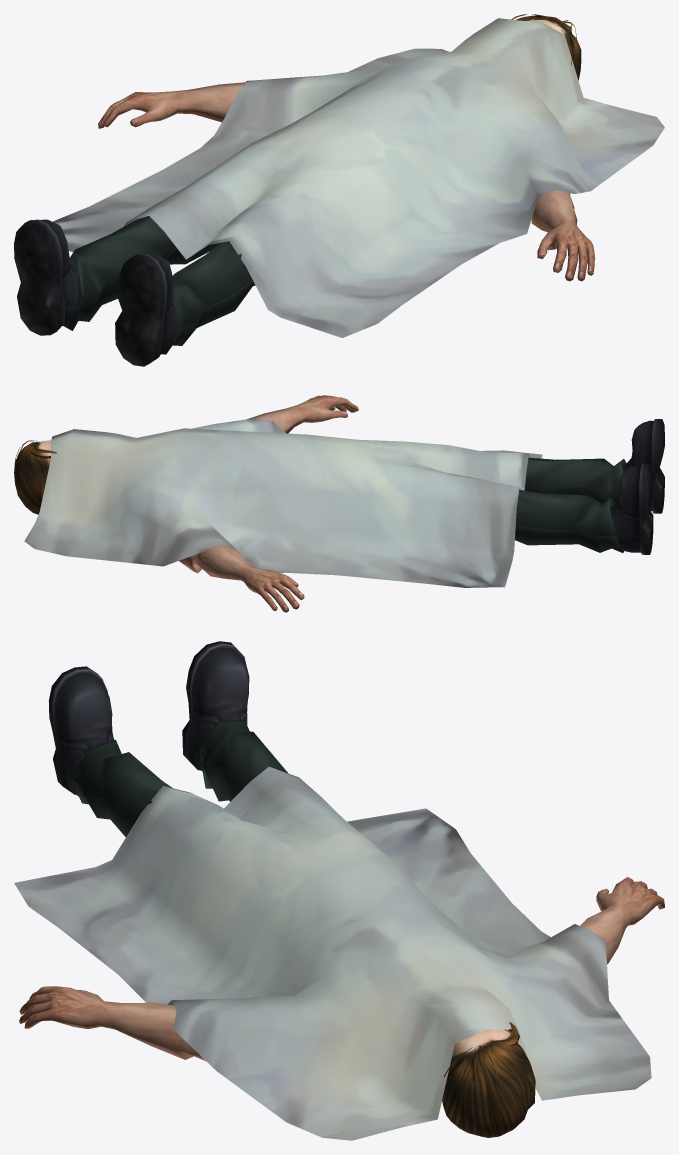
Rendered from MaLuBian_01_shiti_01.FBX.
3 renders of one model, top to bottom at view 1: azimuth 30°, elevation 25°; view 2: azimuth 150°, elevation 25°; view 3: azimuth 270°, elevation 25°, orthographic. The views are drawn at different scales.
Visible parts, largest first — view 1: Plane002; view 2: Plane002; view 3: Plane002.
Part boxes in pixels (x1,y1,x2,y2): Plane002: (14,14,664,366); Plane002: (14,395,664,612); Plane002: (14,641,664,1140).
Bounding box in the file's own units: 703 × 121 × 500.
1 material, 1 textured.
